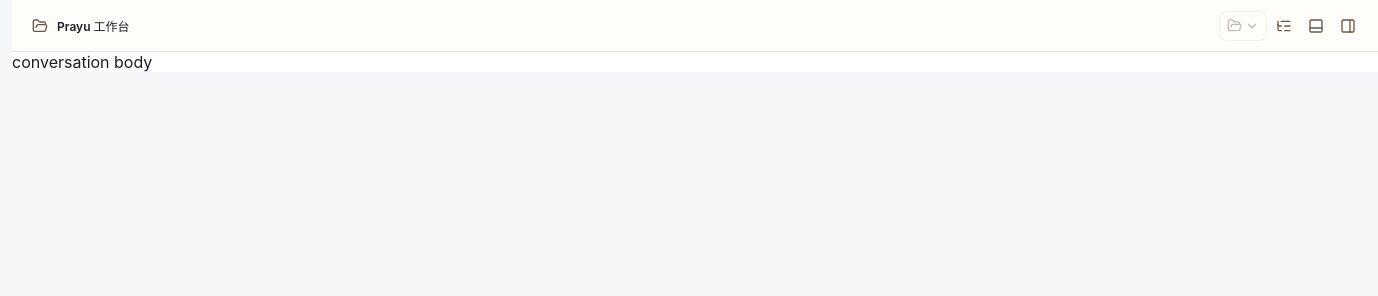
Test: WorkbenchDock › matches the tool shortcuts and add-menu behavior without starting tools
The image size is (1378, 296).
Press g
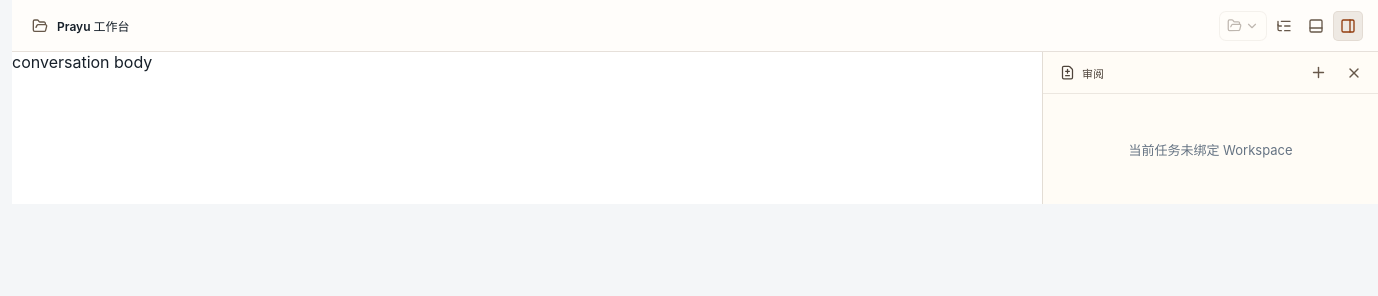
Result: the text "审阅" is shown at [1082,64,1104,80]
Result: the text "当前任务未绑定 Workspace" is shown at [1128,142,1293,158]
Click the button named "添加右侧工具": (1318, 72) [1303,58,1333,88]
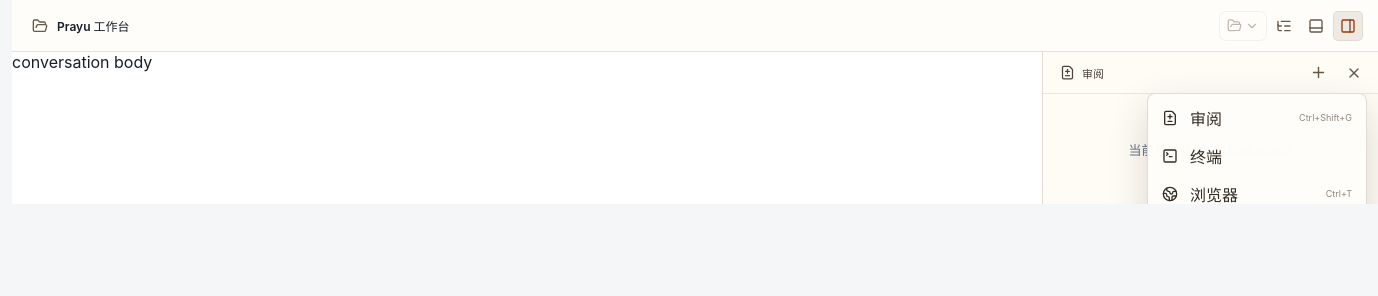
Click the menu item "浏览器 Ctrl+T": (1257, 194) [1154,176,1360,212]
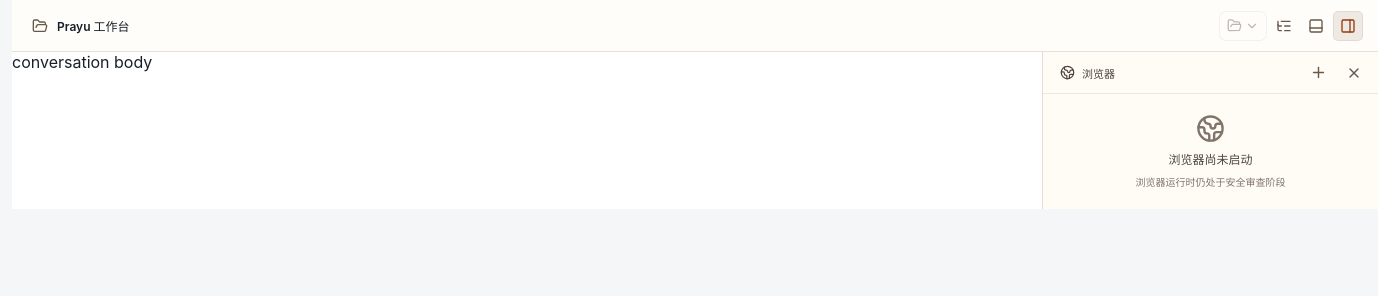
Result: the text "浏览器尚未启动" is shown at [1168,150,1252,167]
Result: the text "浏览器运行时仍处于安全审查阶段" is shown at [1136,174,1286,189]
Press p
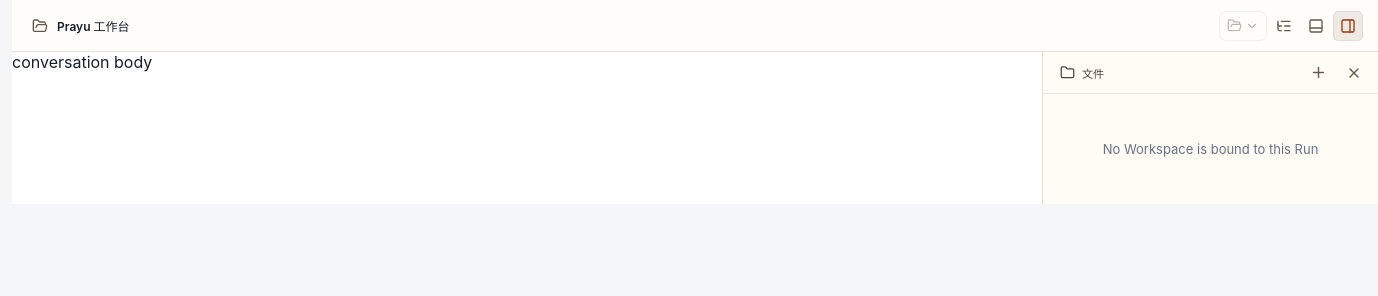
Result: the text "文件" is shown at [1082,64,1104,80]
Result: the text "No Workspace is bound to this Run" is shown at [1103,141,1318,157]
Press j
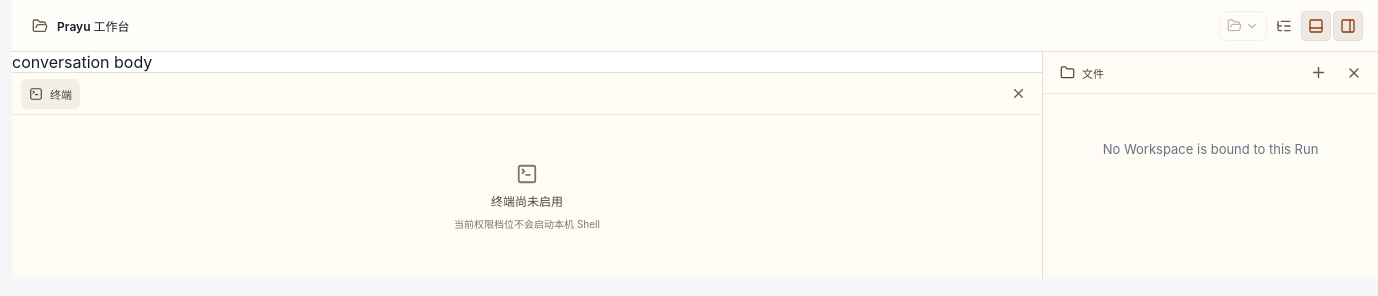
Result: the element named "底部面板" is shown at [12,72,1042,279]
Press j
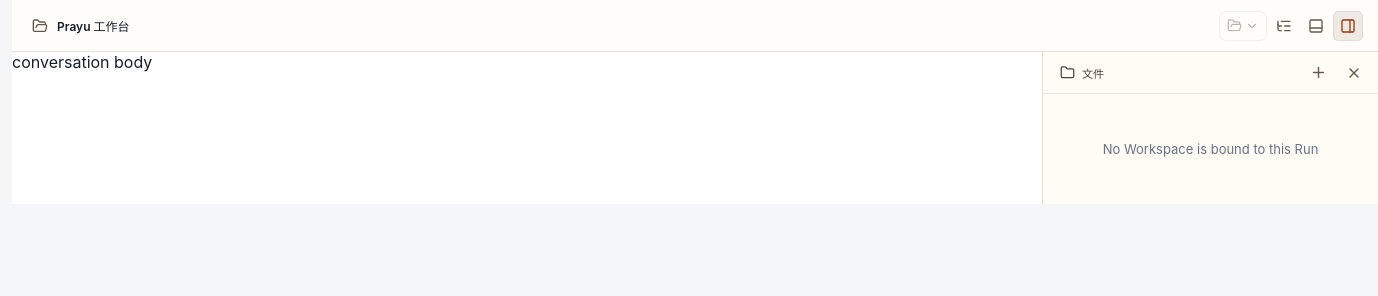
Result: the element "底部面板" is gone
